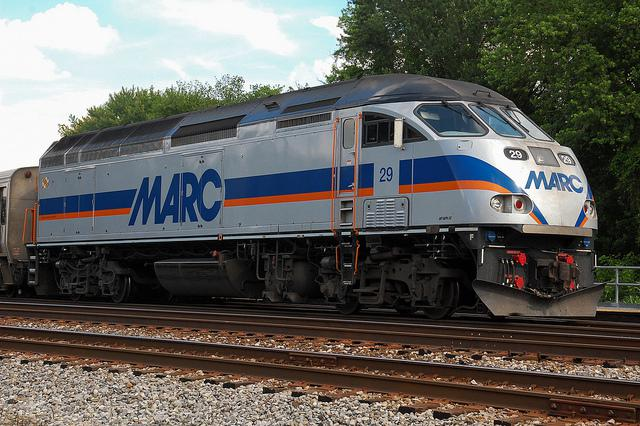Train: (0, 74, 602, 322)
